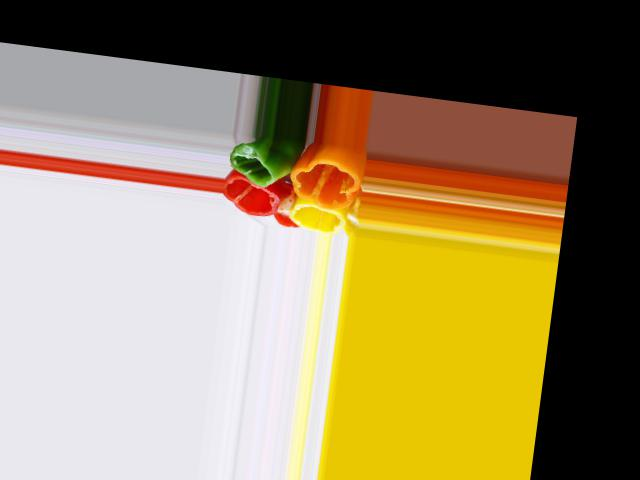bell_pepper: (223, 176, 283, 220)
